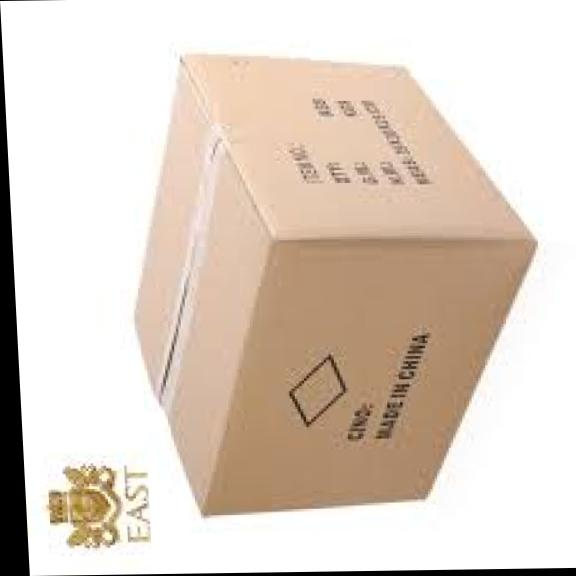Kertas: (136, 58, 533, 514)
